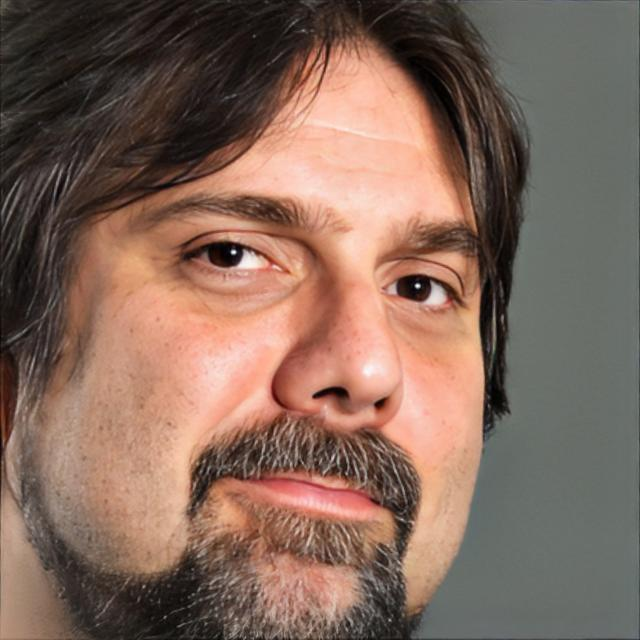neutral: (19, 13, 486, 640)
